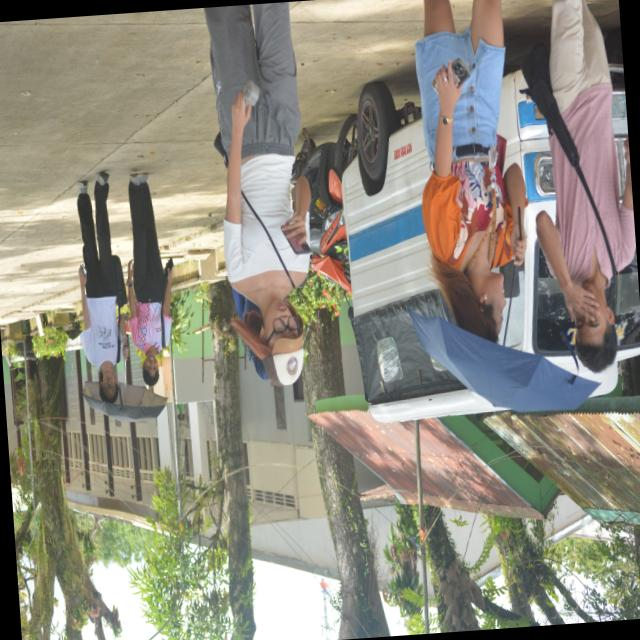person: (205, 2, 309, 384), (415, 0, 526, 340), (549, 0, 635, 270), (76, 171, 127, 401), (126, 173, 170, 385)
